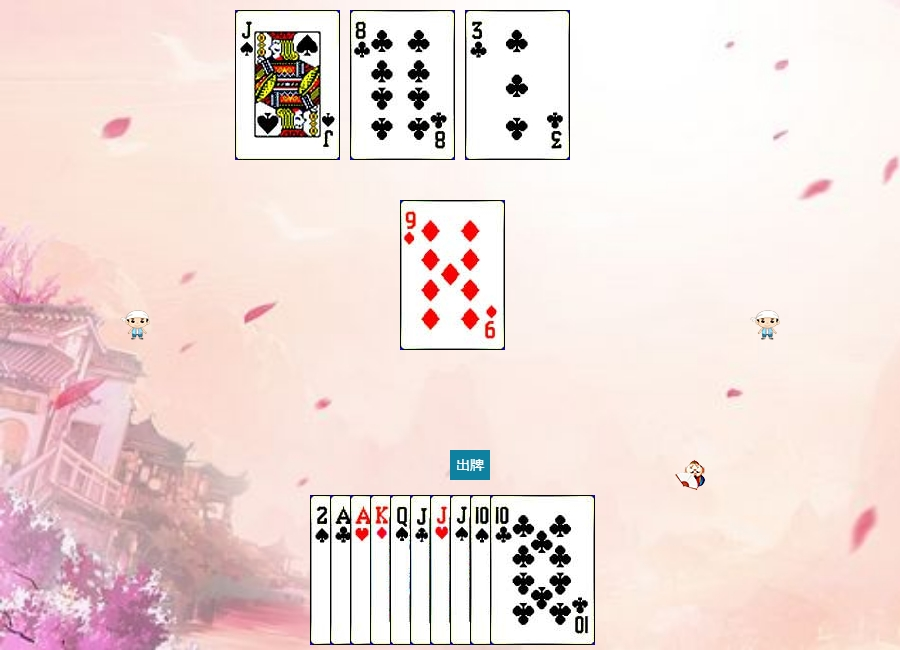10~2: (490, 495, 595, 645)
10~4: (470, 495, 575, 645)
11~2: (410, 495, 515, 645)
11~3: (430, 495, 535, 645)
11~4: (235, 10, 340, 160), (450, 495, 555, 645)
12~4: (390, 495, 495, 645)
13~1: (370, 495, 475, 645)
14~2: (330, 495, 435, 645)
14~3: (350, 495, 455, 645)
15~4: (310, 495, 415, 645)
3~2: (465, 10, 570, 160)
8~2: (350, 10, 455, 160)
9~1: (400, 200, 505, 350)
